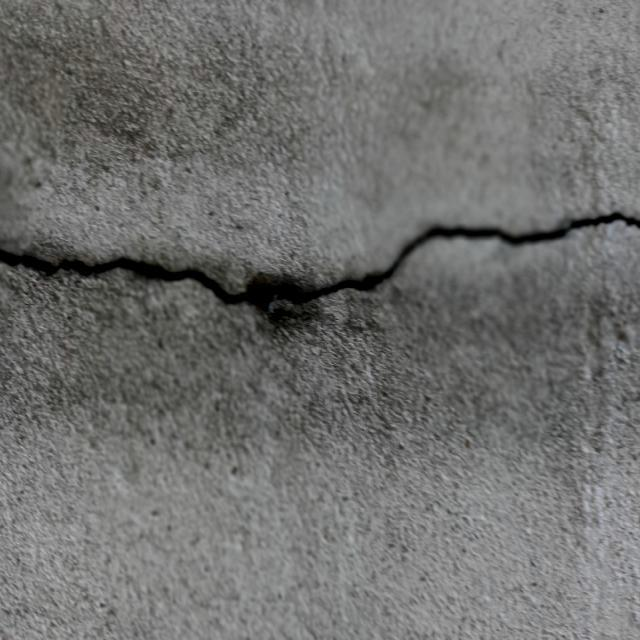SurfaceCrack: (1, 151, 640, 358)
